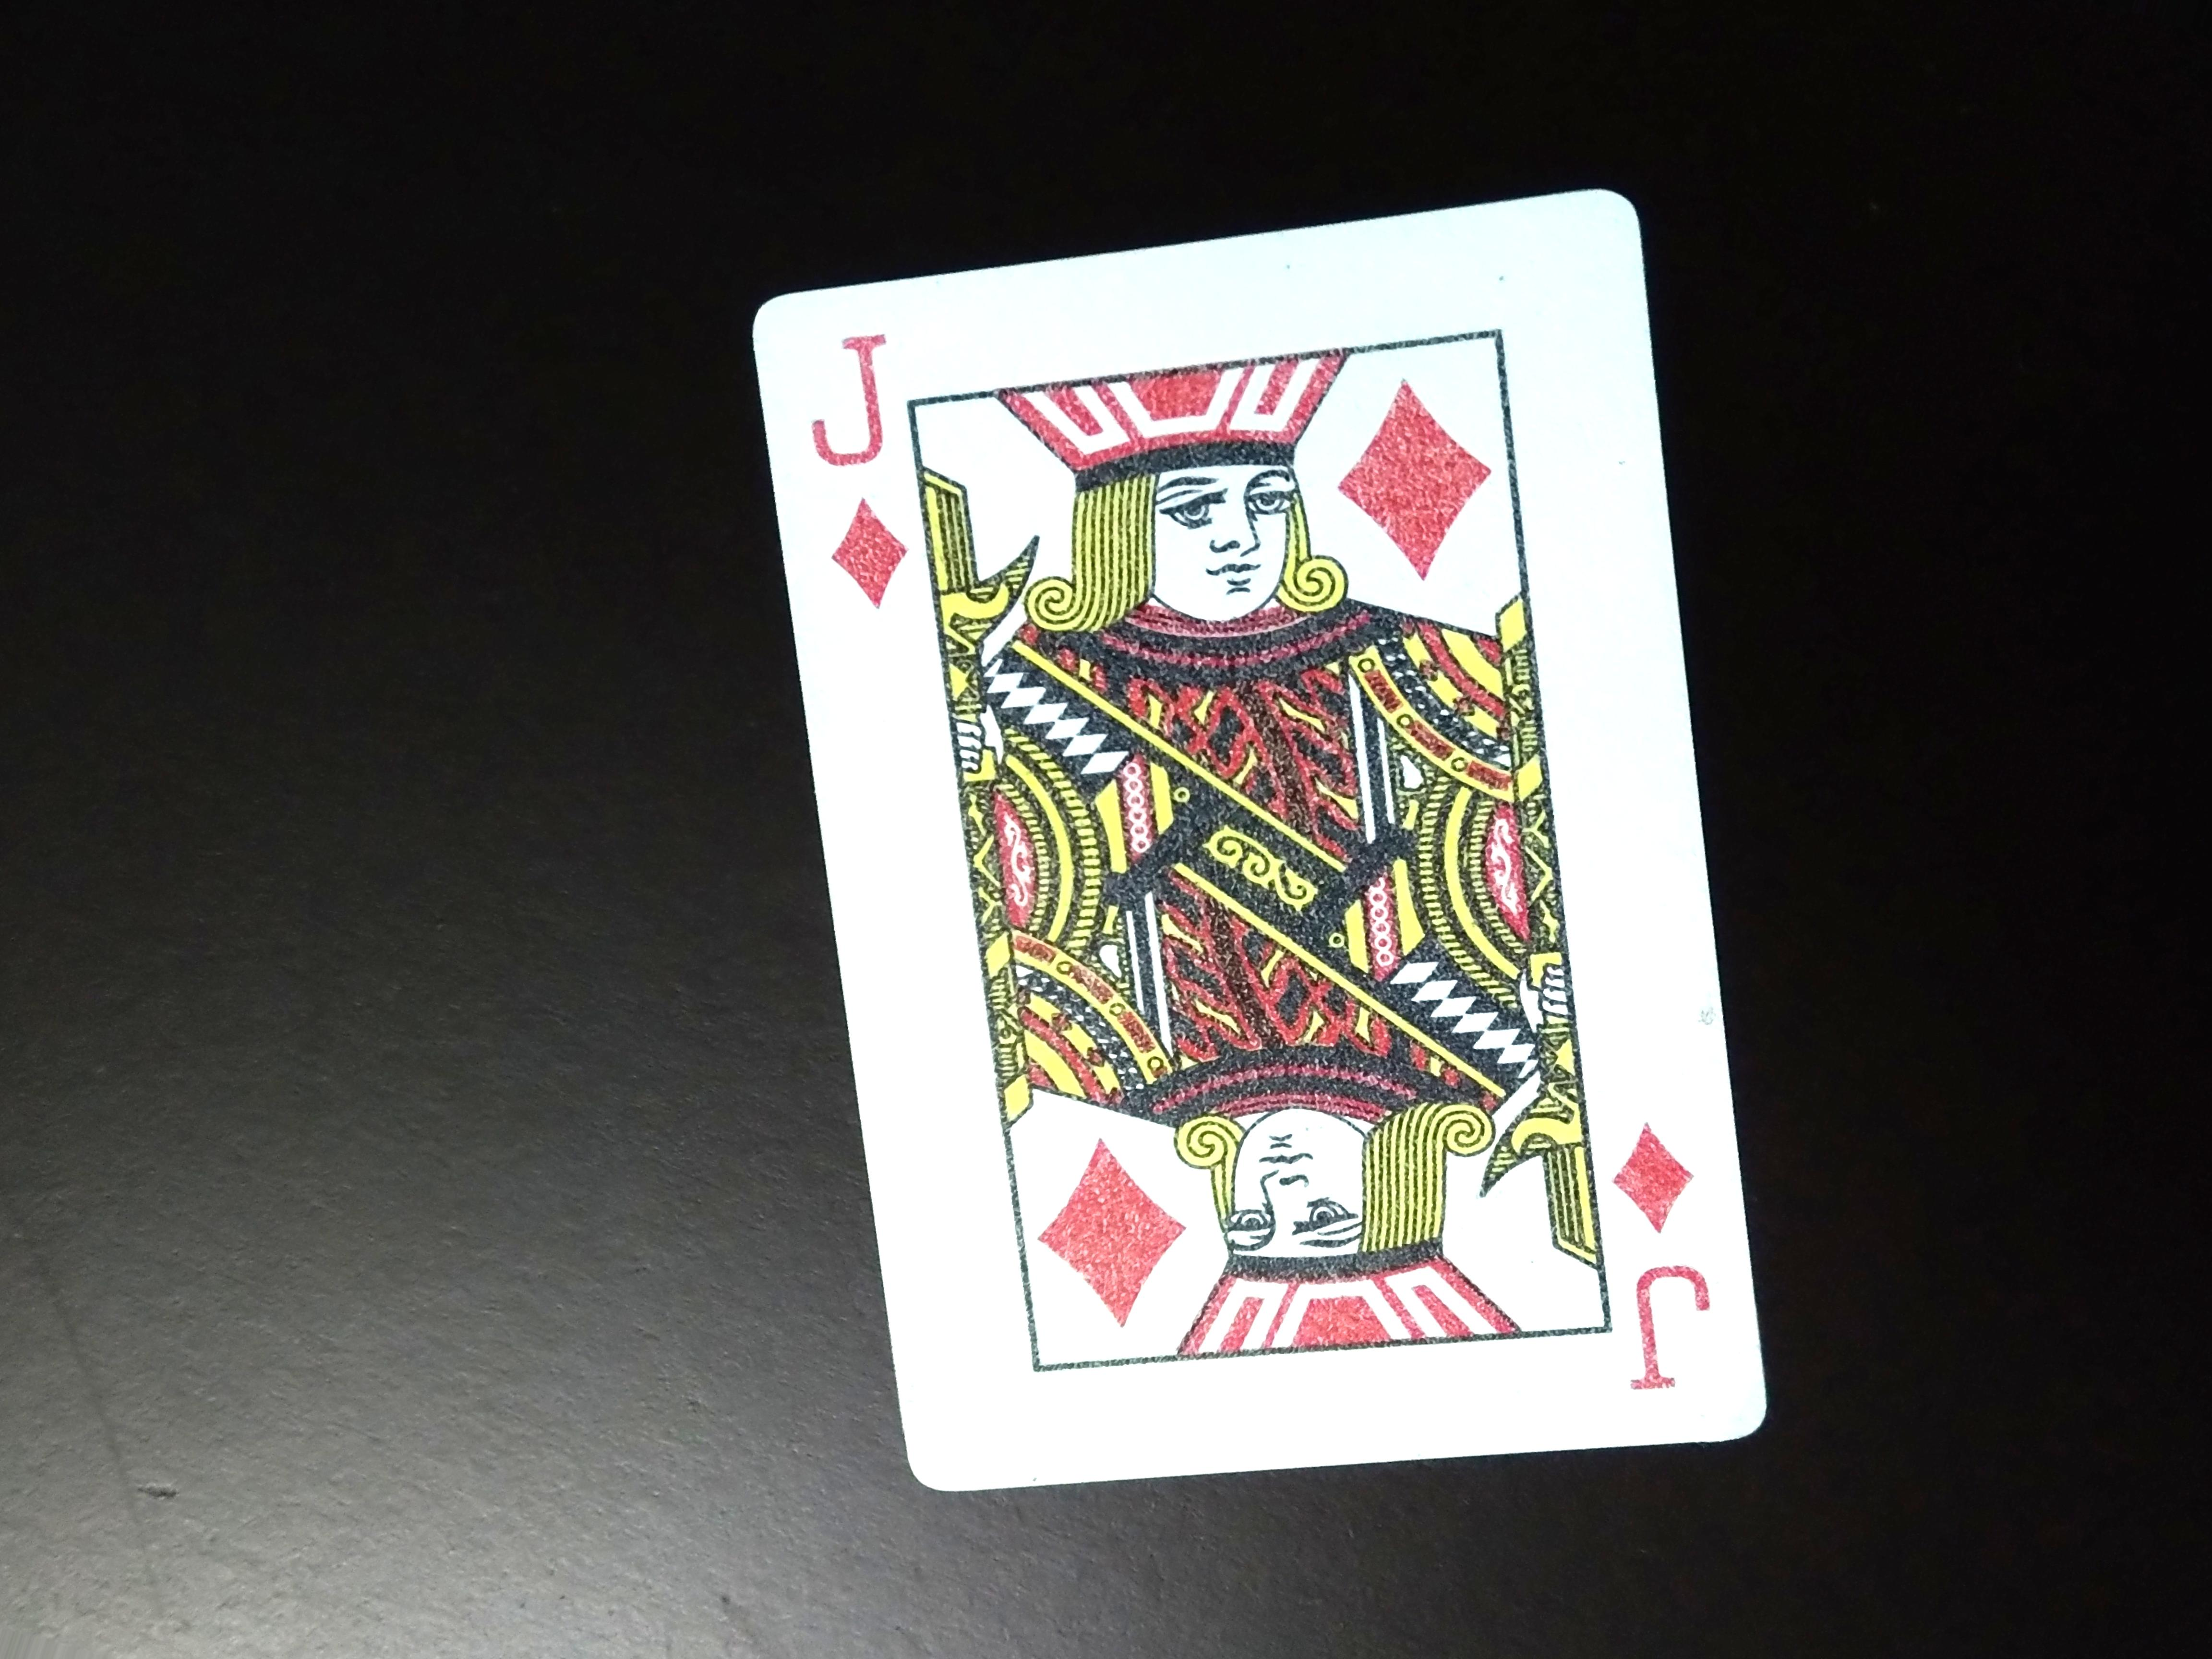JD: (796, 310, 925, 674)
